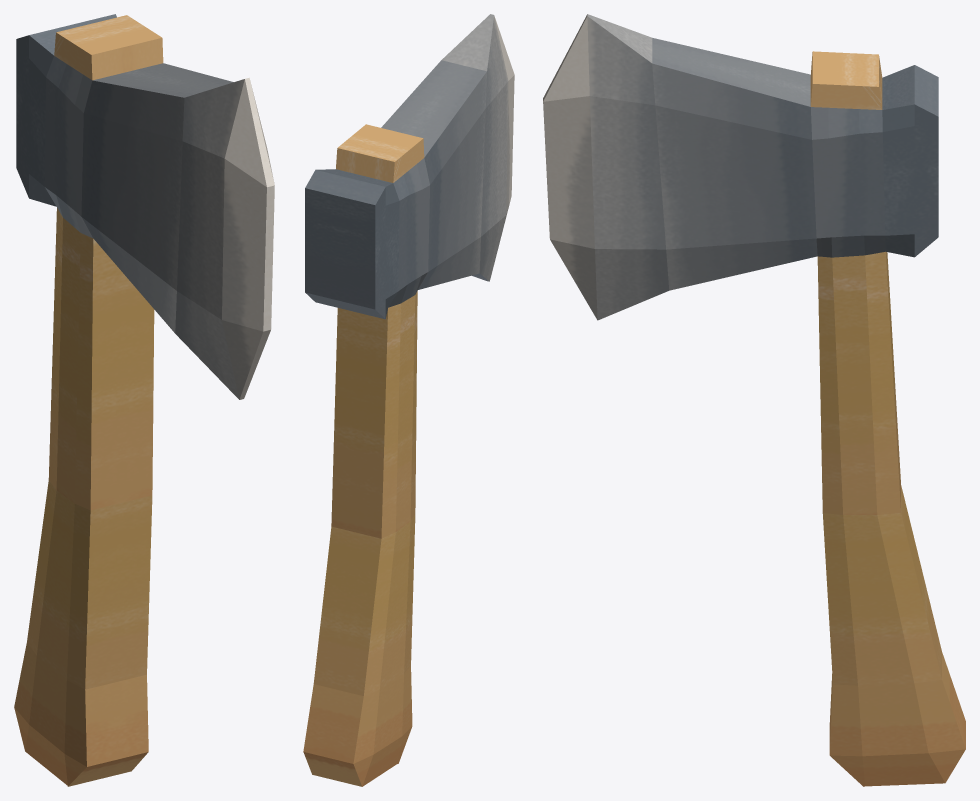
The model's file is axe.fbx.
The picture shows the model from 3 angles, left to right: view 1: azimuth 30°, elevation 25°; view 2: azimuth 150°, elevation 25°; view 3: azimuth 270°, elevation 25°; orthographic projection. The views are drawn at different scales.
Visible parts, largest first — view 1: Cube; view 2: Cube; view 3: Cube.
Part boxes in pixels (x1=…): Cube: x1=14, y1=14, x2=274, y2=786; Cube: x1=303, y1=14, x2=514, y2=786; Cube: x1=543, y1=14, x2=965, y2=786.
Size of the model in its own units: 35.23 by 314 by 159.
Materials: 1 (1 with a texture image).
